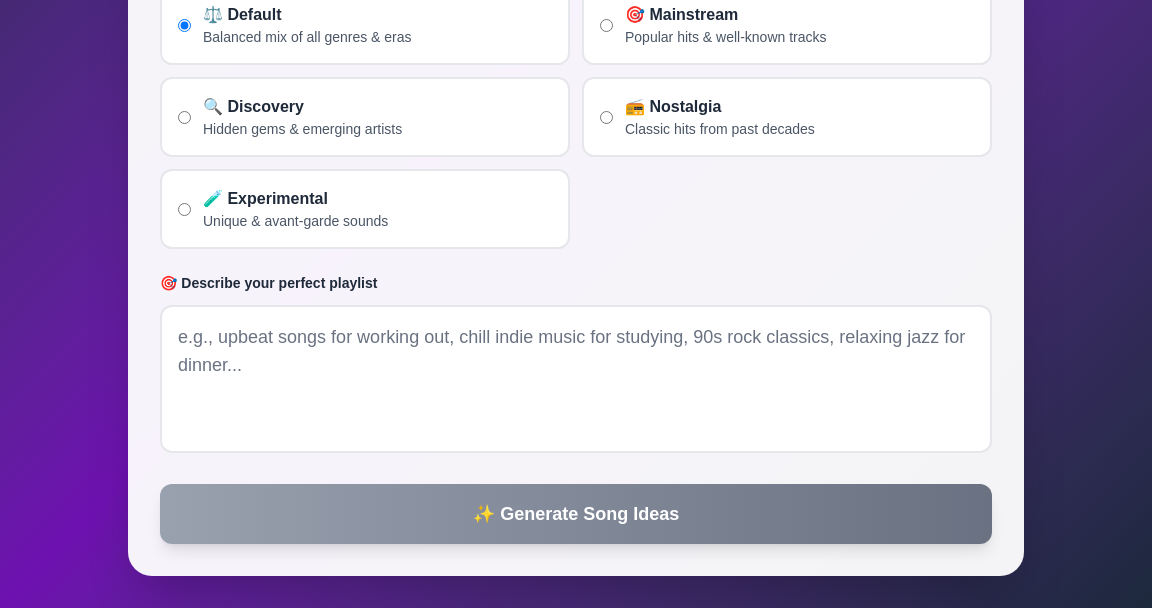
Test: Home Component › Song Generation Flow › should generate songs when form is submitted
(page scrolled)
Replace the text in the text box labelled "🎯 Describe your perfect playlist" with "upbeat workout music" at {"x": 576, "y": 379}, box [160,305,992,453]
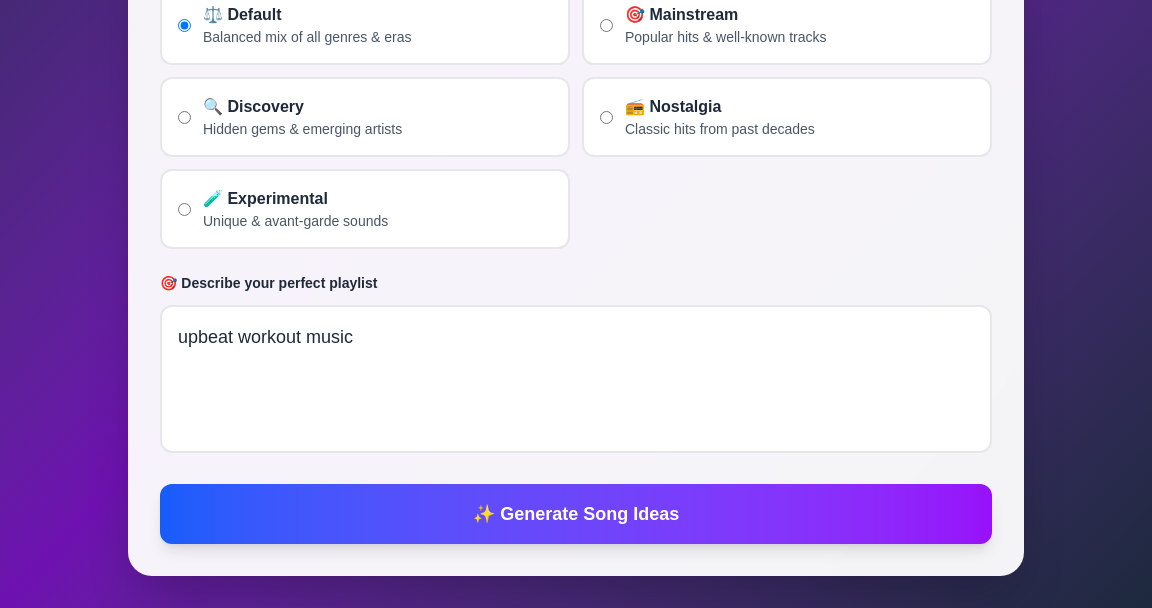
Click the button "✨ Generate Song Ideas" at {"x": 576, "y": 514}, box [160,484,992,544]
(page scrolled)
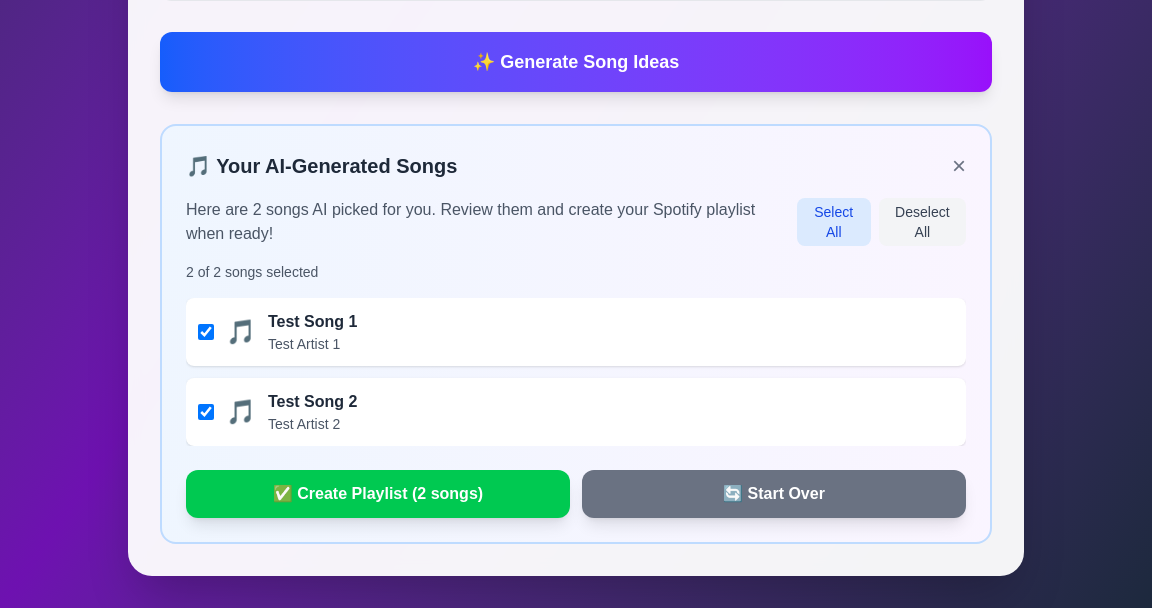
expect the heading "🎵 Your AI-Generated Songs" is shown: met, box [186,152,457,180]
expect the text "Test Song 1" is shown: met, box [268,310,357,334]
expect the text "Test Artist 1" is shown: met, box [268,336,340,352]
